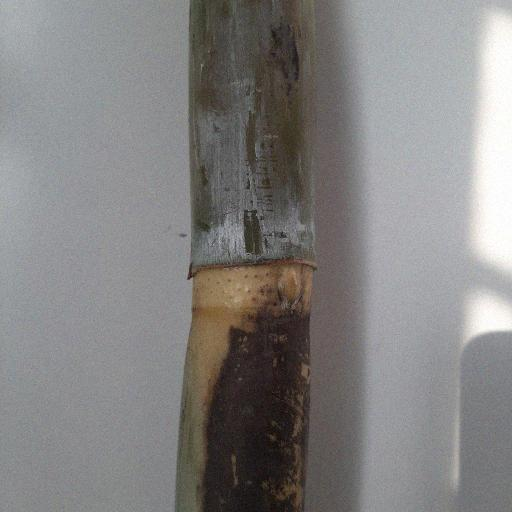Bud: (277, 266, 305, 308)
